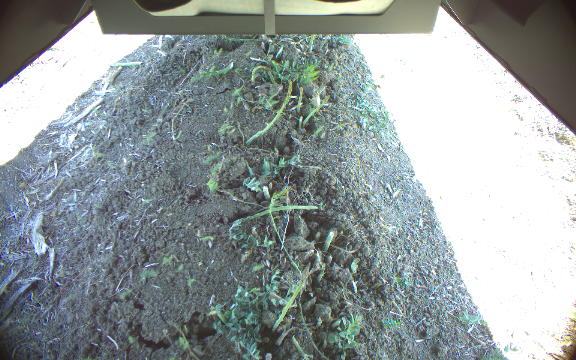aspa: (273, 266, 310, 334), (299, 94, 332, 128), (277, 79, 292, 116), (295, 85, 304, 111), (306, 32, 315, 52)
